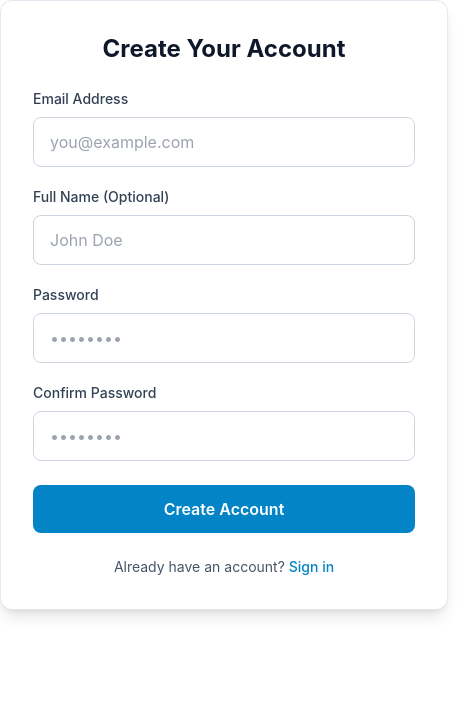
RegisterForm Component › Form Validation › should show error when email is empty
Step 1. Click the button "Create Account" → (224, 509), box 33,485 -> 415,533
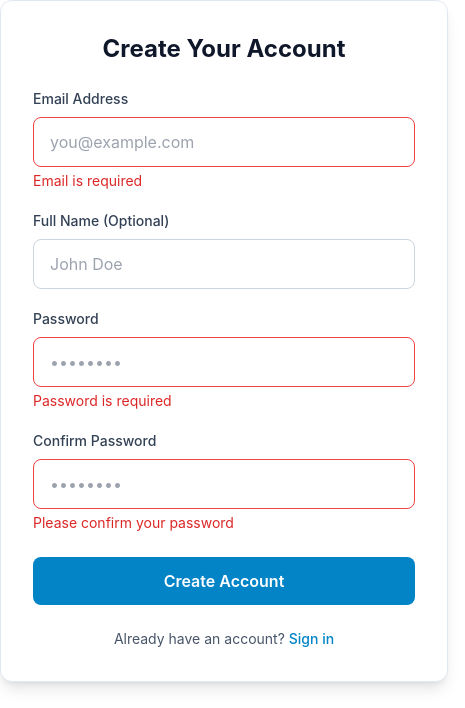
Expected: the text "Email is required" is shown, 33,172 -> 142,189
